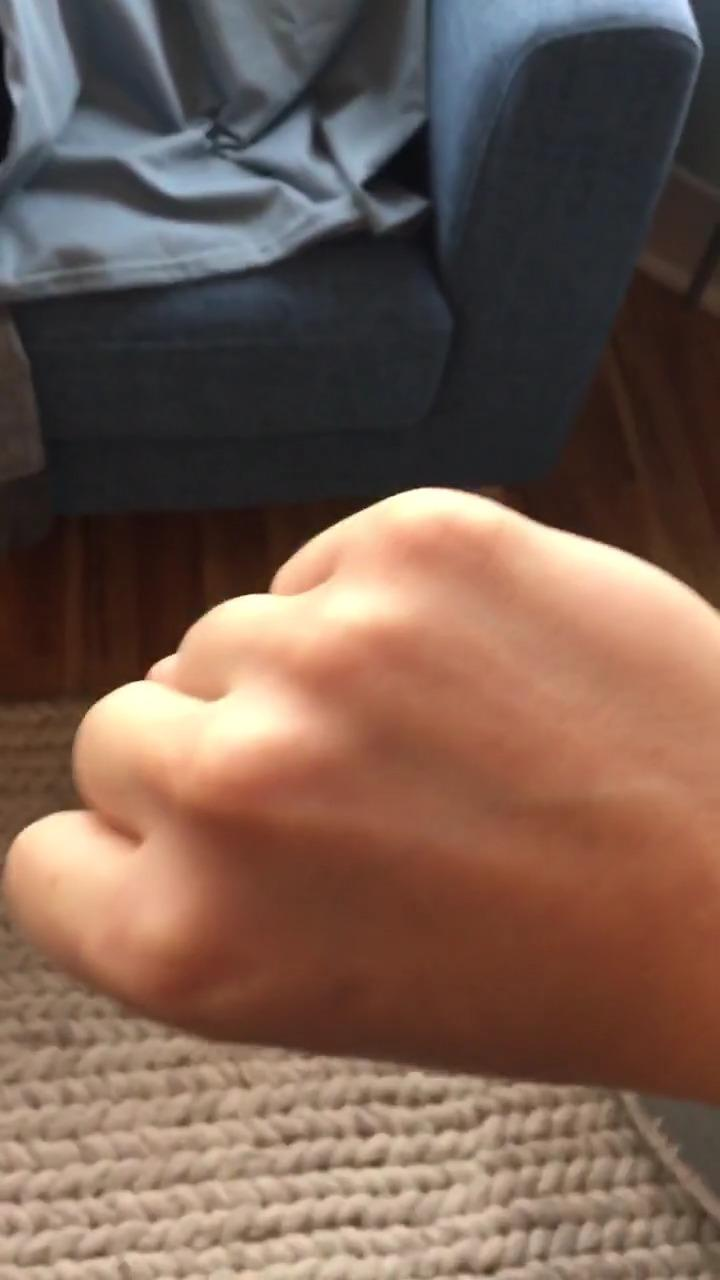Rock: (0, 482, 720, 1093)
